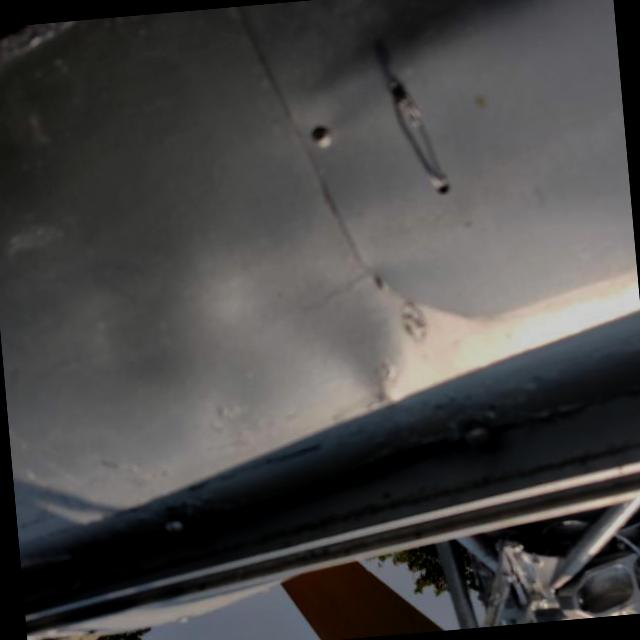dent: (198, 224, 448, 450)
